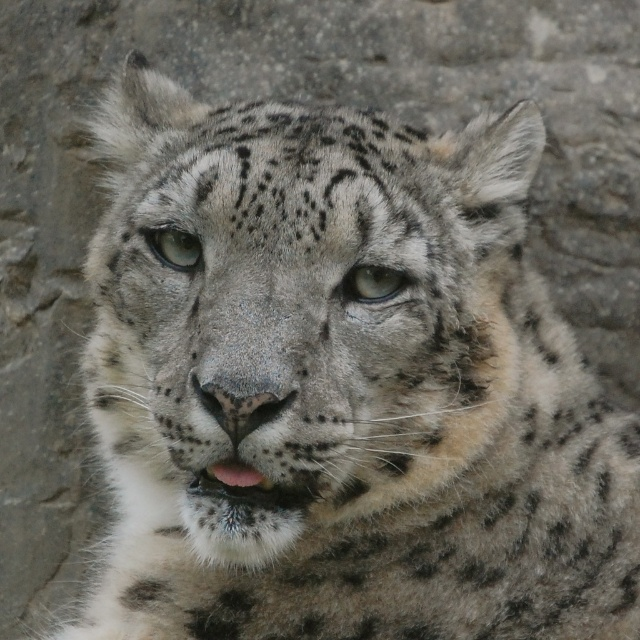Leopard: (15, 43, 640, 640)
